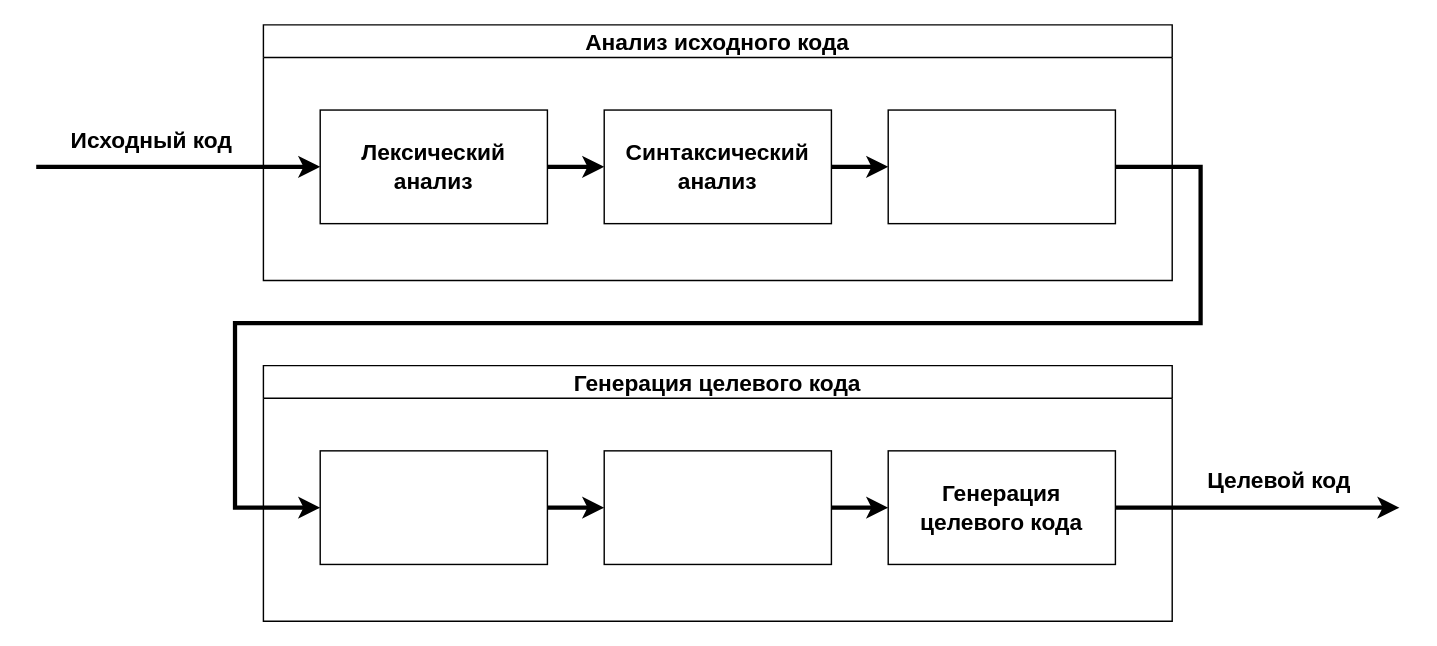
Some shapes in this 1437 by 646 pixel diagram are drawn without their labels. Each missing label, with the centre of its shape:
Генерация промежуточного кода: (433,506)
Оптимизация кода: (717,506)
Семантический анализ: (1001,166)
